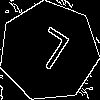L: (24, 26, 72, 80)
